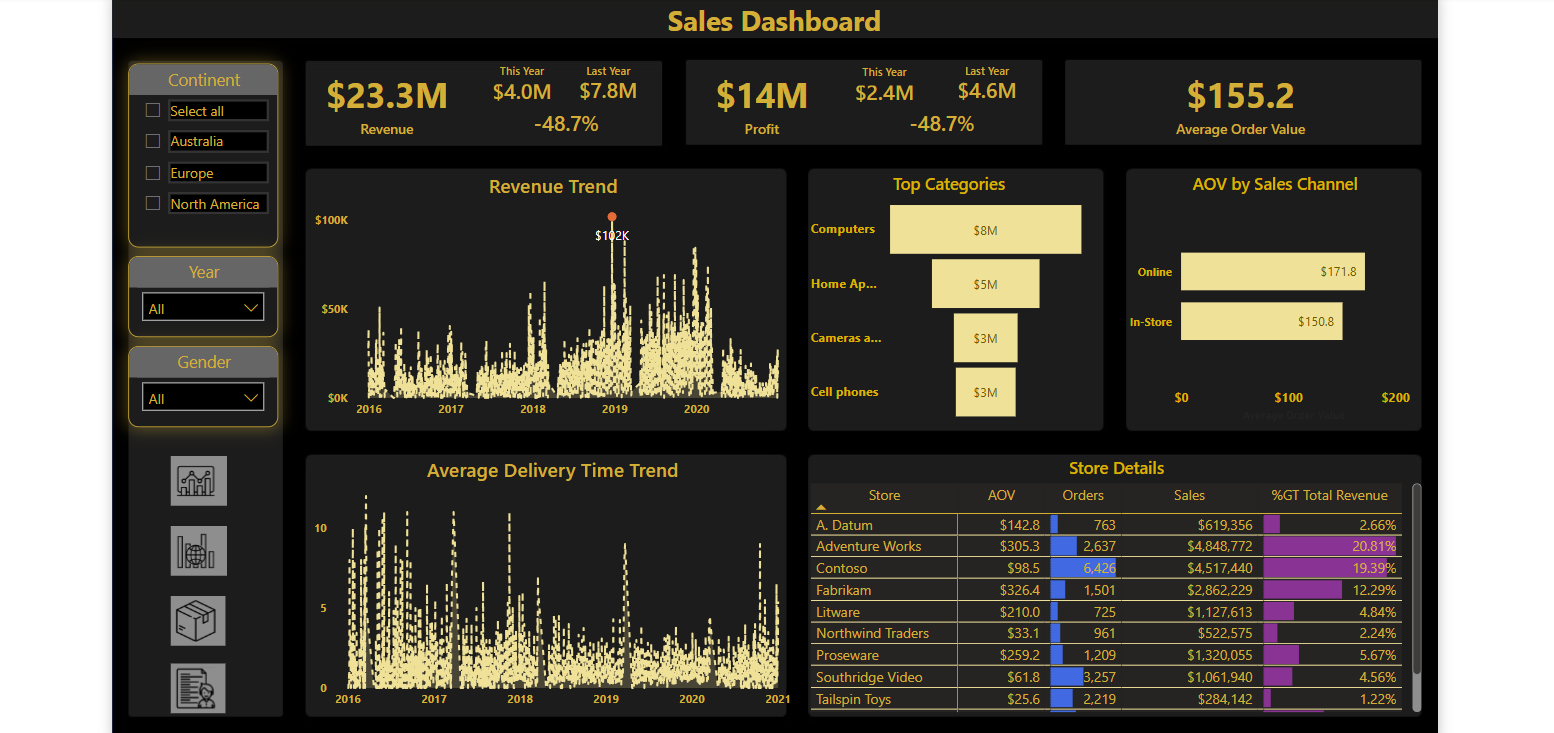

Layout of this report page (visuals, bound fields, positions):
{"tool":"powerbi","page":{"name":"Dashboard","canvas":[1280,720],"ordinal":0},"visuals":[{"type":"card","fields":{"Values":["Measure Table.Total Revenue"]},"box":[190.6,65.1,149.6,78.4],"z":0},{"type":"actionButton","box":[56.7,444,54.3,48.3],"z":1000},{"type":"textbox","box":[302.9,0,672.7,56.9],"z":2000},{"type":"actionButton","box":[56.7,511.5,54.3,48.3],"z":3000},{"type":"card","fields":{"Values":["Measure Table.Total Profit"]},"box":[552.5,65.1,149.6,78.4],"z":4000},{"type":"actionButton","box":[56.7,579.1,53.1,48.3],"z":5000},{"type":"card","title":"This Year","fields":{"Values":["Measure Table.YTD Revenue"]},"box":[352.3,65.1,86.9,39.8],"z":6000},{"type":"actionButton","box":[56.7,644.2,53.1,48.3],"z":7000},{"type":"card","fields":{"Values":["Measure Table.Average Order Value"]},"box":[919.3,65.1,340.2,78.4],"z":8000},{"type":"card","title":"Last Year","fields":{"Values":["Measure Table.Last YTD Revenue"]},"box":[439.1,65.1,79.6,41],"z":9000},{"type":"card","fields":{"Values":["Measure Table.YOY Revenue Growth"]},"box":[344.2,105.2,189.2,38.4],"z":10000},{"type":"card","title":"This Year","fields":{"Values":["Measure Table.YTD Profit"]},"box":[702.1,66.4,86.9,39.8],"z":11000},{"type":"card","title":"Last Year","fields":{"Values":["Measure Table.Last YTD Profit"]},"box":[801.1,65.1,86.9,41],"z":12000},{"type":"card","fields":{"Values":["Measure Table.YOY Revenue Growth"]},"box":[707,106.2,188.2,37.4],"z":13000},{"type":"lineChart","title":"Revenue Trend","fields":{"Y":["Measure Table.Total Revenue","Measure Table.Max Point"],"Category":["Sales.Year","Sales.Quarter","Sales.Month","Sales.Order Date"]},"box":[190.6,170.1,470.5,246.1],"z":14000},{"type":"pivotTable","title":"Store Details","fields":{"Rows":["Products.Brand"],"Values":["Measure Table.Average Order Value","Measure Table.Total Orders","Measure Table.Total Revenue","Divide(Measure Table.Total Revenue, ScopedEval(Measure Table.Total Revenue, []))"]},"box":[669.6,444,599.6,252.1],"z":15000},{"type":"funnel","title":"Top Categories","fields":{"Category":["Products.Category"],"Y":["Measure Table.Total Revenue"]},"box":[669.6,170.1,276.3,246.1],"z":16000},{"type":"stackedAreaChart","title":"Average Delivery Time Trend","fields":{"Category":["Sales.Delivery Date","Sales.Start Of Week","Sales.Month"],"Y":["Measure Table.Average Delivery Time"]},"box":[189.4,444,471.7,252.1],"z":17000},{"type":"barChart","title":"AOV by Sales Channel","fields":{"Category":["Sales.Sales Channel"],"Y":["Measure Table.Average Order Value"]},"box":[976,170.1,293.2,246.1],"z":18000},{"type":"slicer","title":"Continent","fields":{"Values":["Customers.Continent"]},"box":[15.7,65.1,144.8,177.3],"z":19000},{"type":"slicer","title":"Year","fields":{"Values":["Sales.Year"]},"box":[15.7,250.9,144.8,78.4],"z":20000},{"type":"slicer","title":"Gender","fields":{"Values":["Customers.Gender"]},"box":[15.7,337.8,144.8,78.4],"z":21000}]}

Visuals, with their boxes on the page's 1280x720 design canvas (x1, y1, x2, y2). These are canvas units, not pixel positions in the 1554x733 screenshot, which may show the page scaled, cropped or inside an application window:
card - Measure Table.Total Revenue: locate(191, 65, 340, 144)
actionButton: locate(57, 444, 111, 492)
textbox: locate(303, 0, 976, 57)
actionButton: locate(57, 512, 111, 560)
card - Measure Table.Total Profit: locate(552, 65, 702, 144)
actionButton: locate(57, 579, 110, 627)
"This Year" card: locate(352, 65, 439, 105)
actionButton: locate(57, 644, 110, 692)
card - Measure Table.Average Order Value: locate(919, 65, 1260, 144)
"Last Year" card: locate(439, 65, 519, 106)
card - Measure Table.YOY Revenue Growth: locate(344, 105, 533, 144)
"This Year" card: locate(702, 66, 789, 106)
"Last Year" card: locate(801, 65, 888, 106)
card - Measure Table.YOY Revenue Growth: locate(707, 106, 895, 144)
"Revenue Trend" lineChart: locate(191, 170, 661, 416)
"Store Details" pivotTable: locate(670, 444, 1269, 696)
"Top Categories" funnel: locate(670, 170, 946, 416)
"Average Delivery Time Trend" stackedAreaChart: locate(189, 444, 661, 696)
"AOV by Sales Channel" barChart: locate(976, 170, 1269, 416)
"Continent" slicer: locate(16, 65, 160, 242)
"Year" slicer: locate(16, 251, 160, 329)
"Gender" slicer: locate(16, 338, 160, 416)
